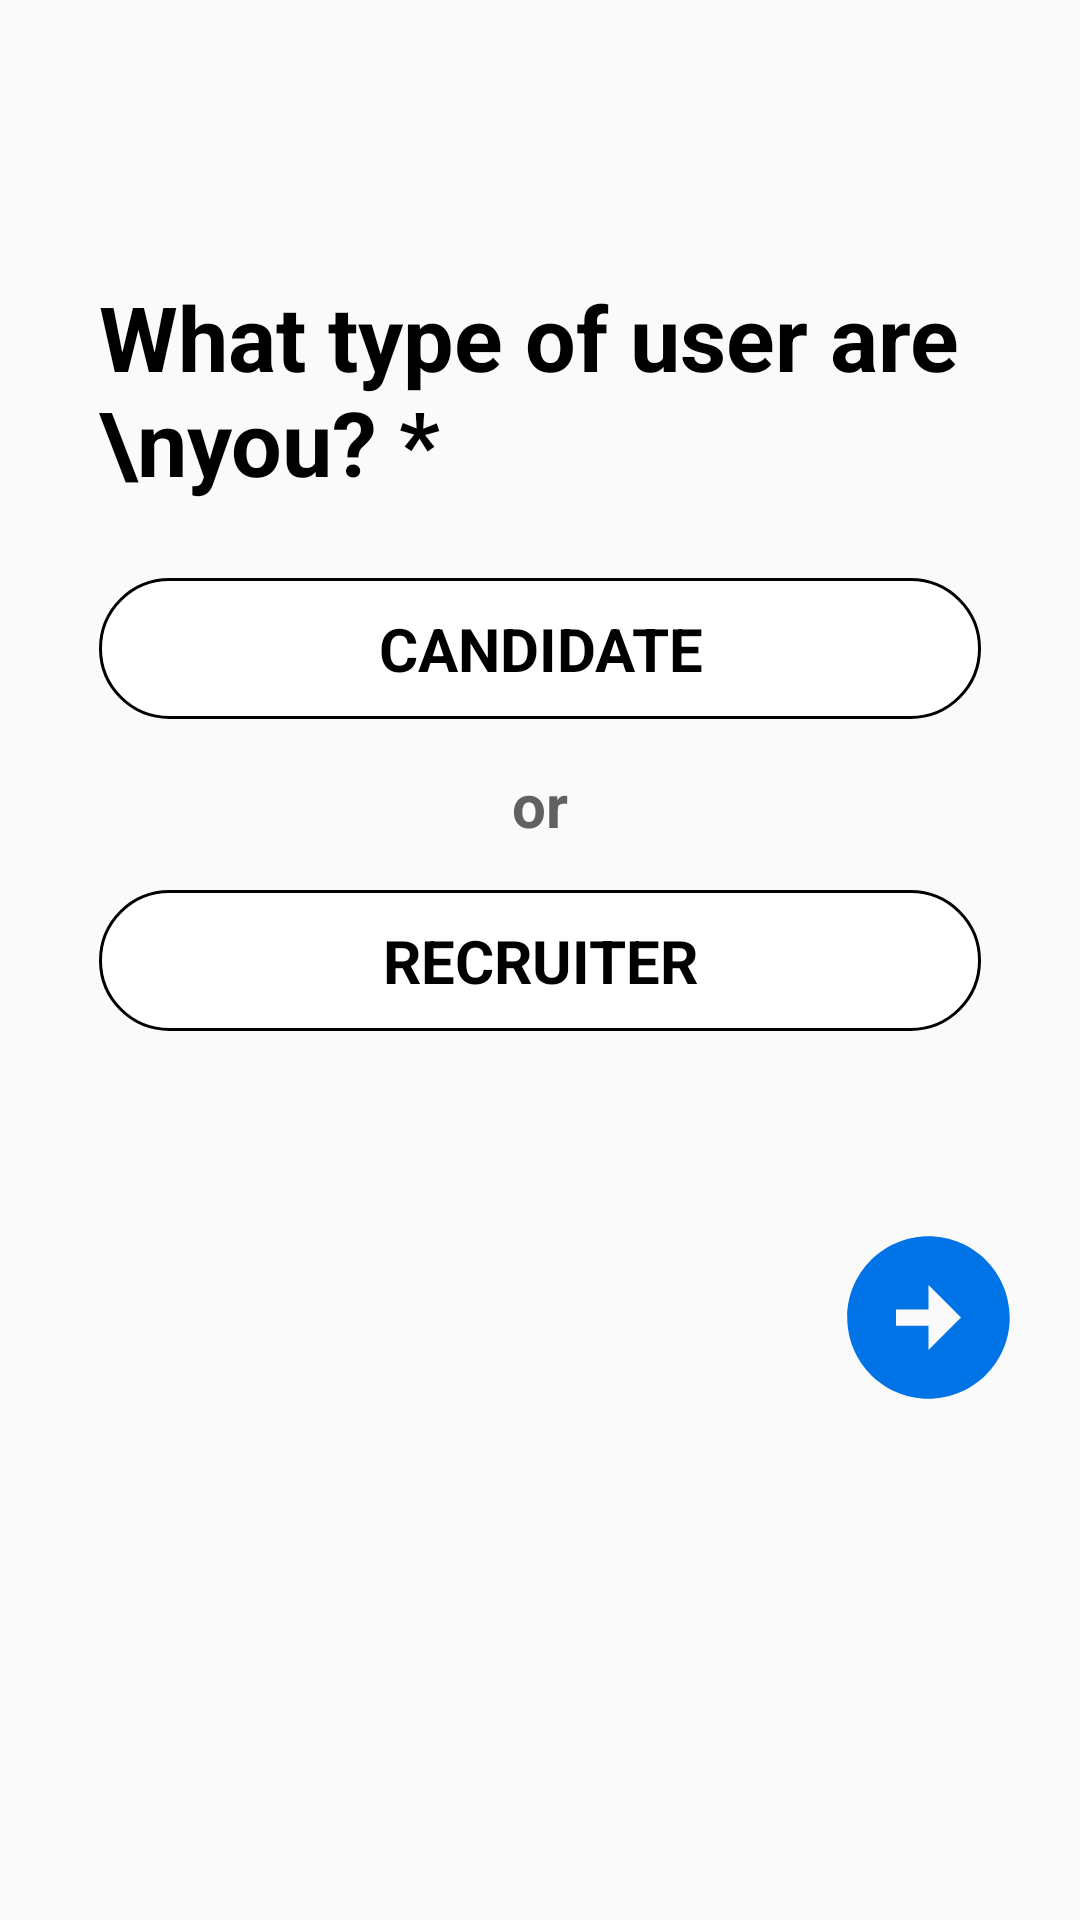

Screen size 1080w x 1920h. Icon name, then its center in pixels as (x,y):
arrow: (928,1317)
